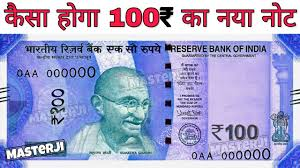hundred: (13, 57, 273, 144)
